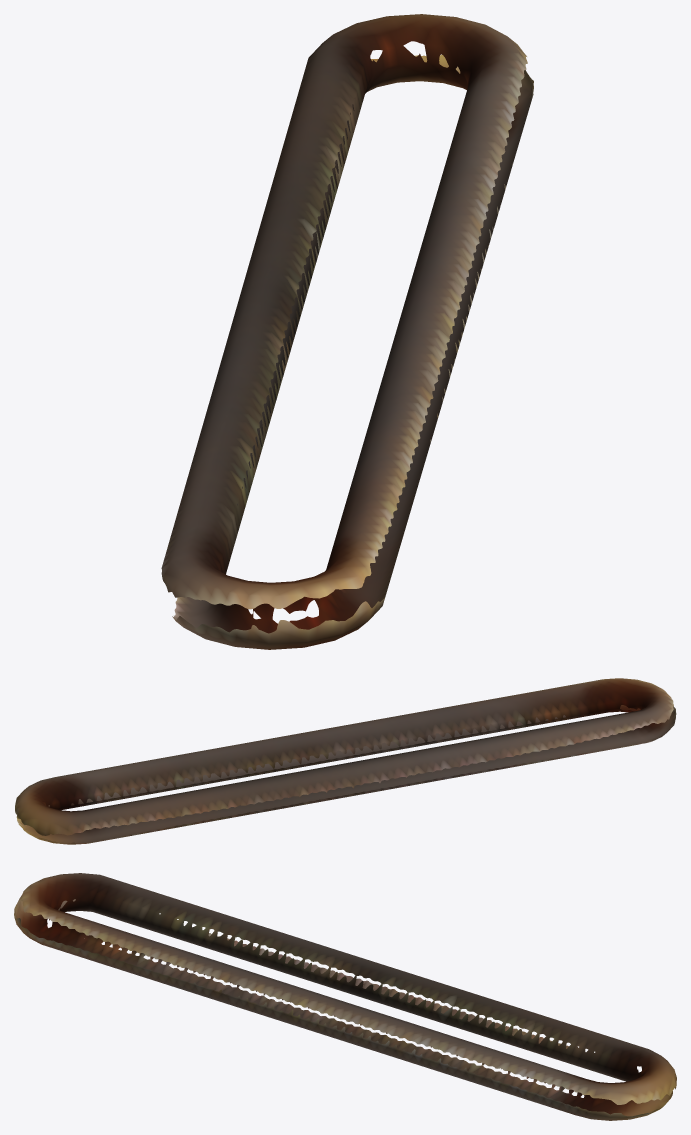
File: lrubber.fbx
3 views of the same model, one above another, from view 1: azimuth 30°, elevation 25°; view 2: azimuth 150°, elevation 25°; view 3: azimuth 270°, elevation 25° (orthographic). The views are drawn at different scales.
Visible parts, largest first — view 1: lrubber; view 2: lrubber; view 3: lrubber.
Boxes of the visible parts, bbox=[...] form: lrubber: bbox=[161, 14, 533, 649]; lrubber: bbox=[15, 678, 676, 844]; lrubber: bbox=[14, 873, 676, 1120].
Bounding box in the file's own units: 7.12 × 0.5054 × 8.82.
Materials: 1 (1 with a texture image).
